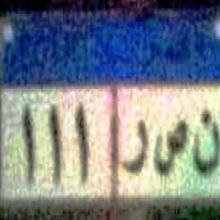1: (72, 104, 93, 180), (20, 108, 39, 187), (46, 107, 65, 185)
noon: (192, 103, 219, 184)
raa: (121, 117, 147, 178)
saad: (154, 120, 186, 178)
